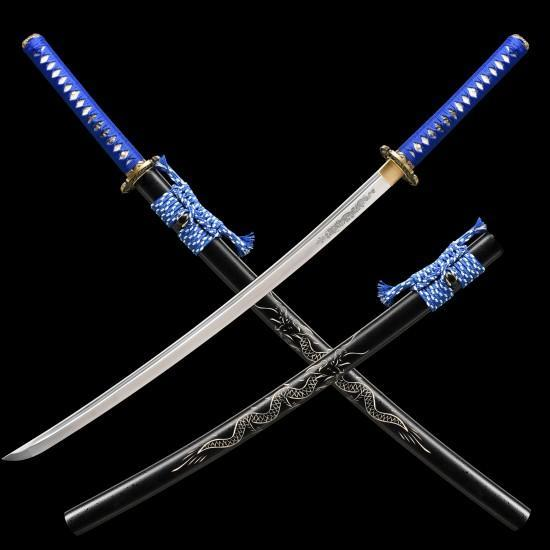espada: (1, 17, 545, 484)
